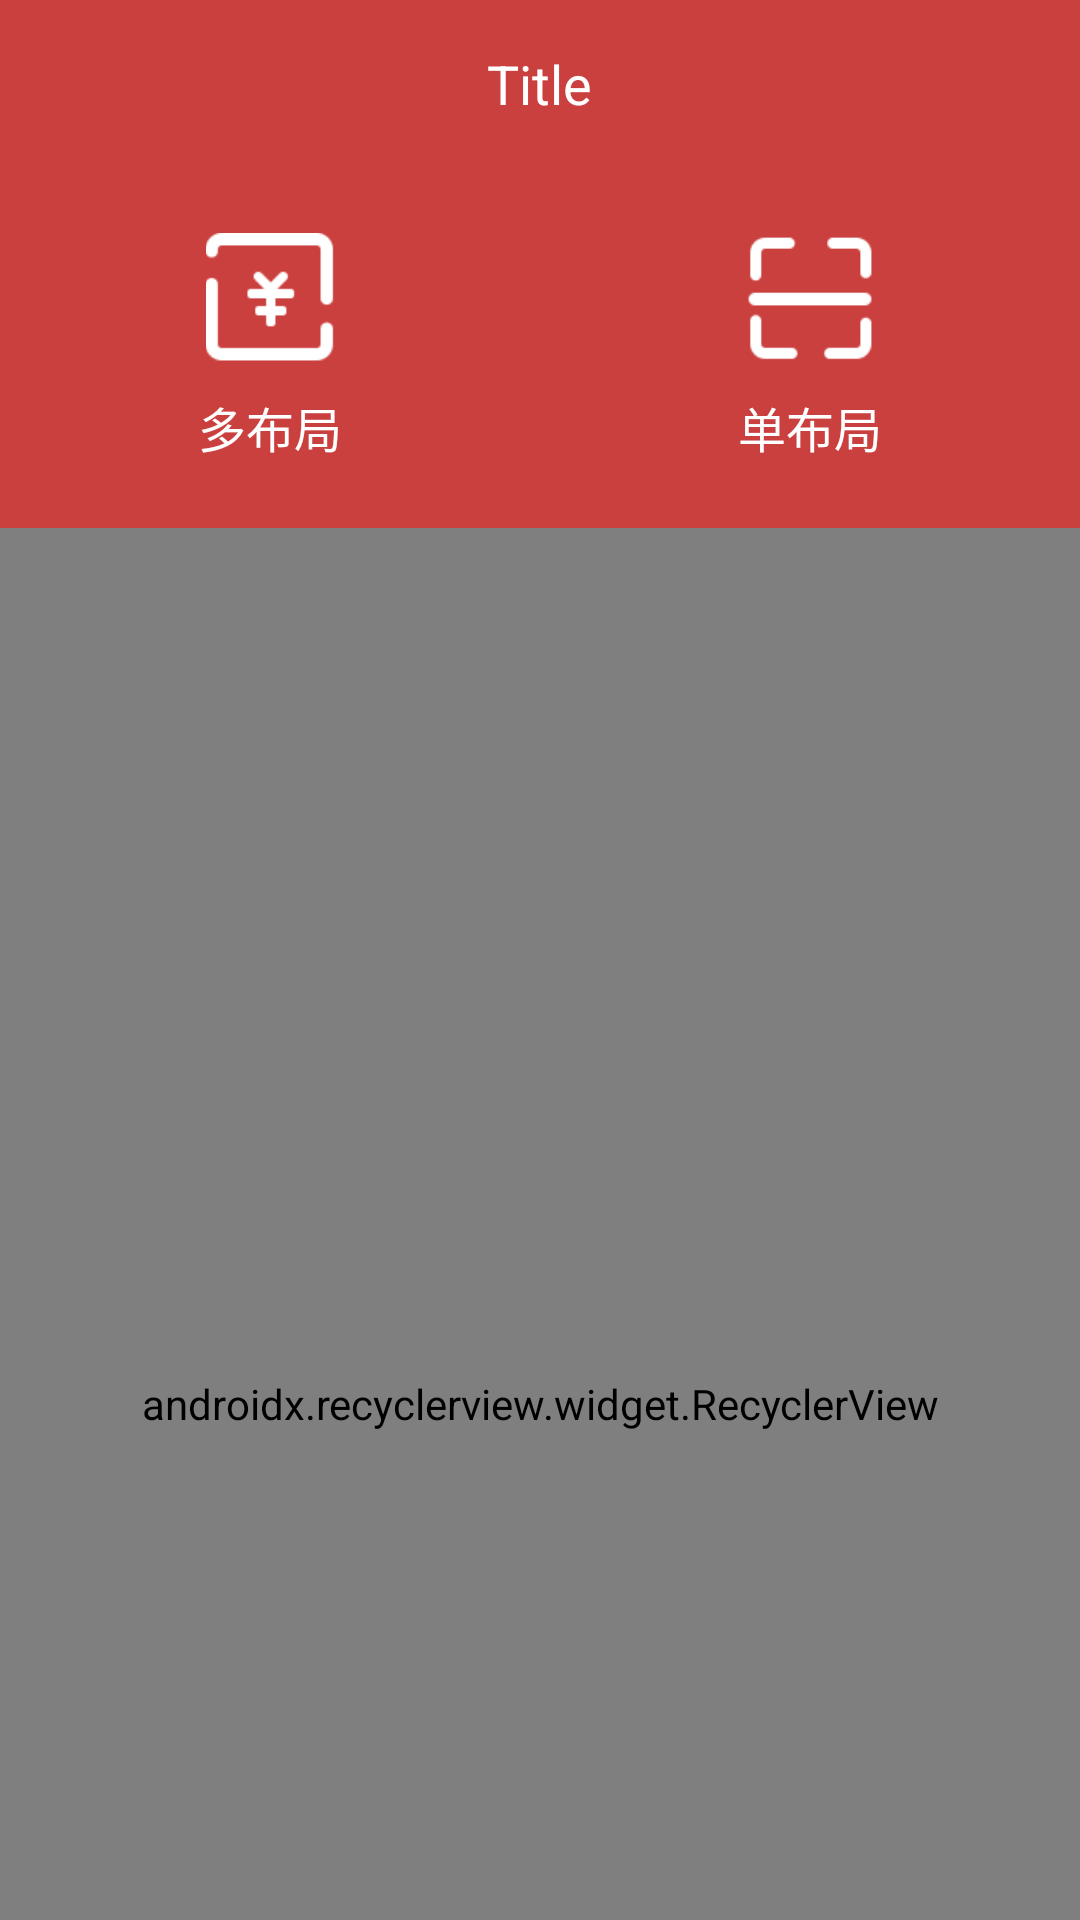

Icons on this 1080w x 1920h Android screen, each with the point to tap as [x,y]:
home gather: [270,297]
home scan: [810,298]
